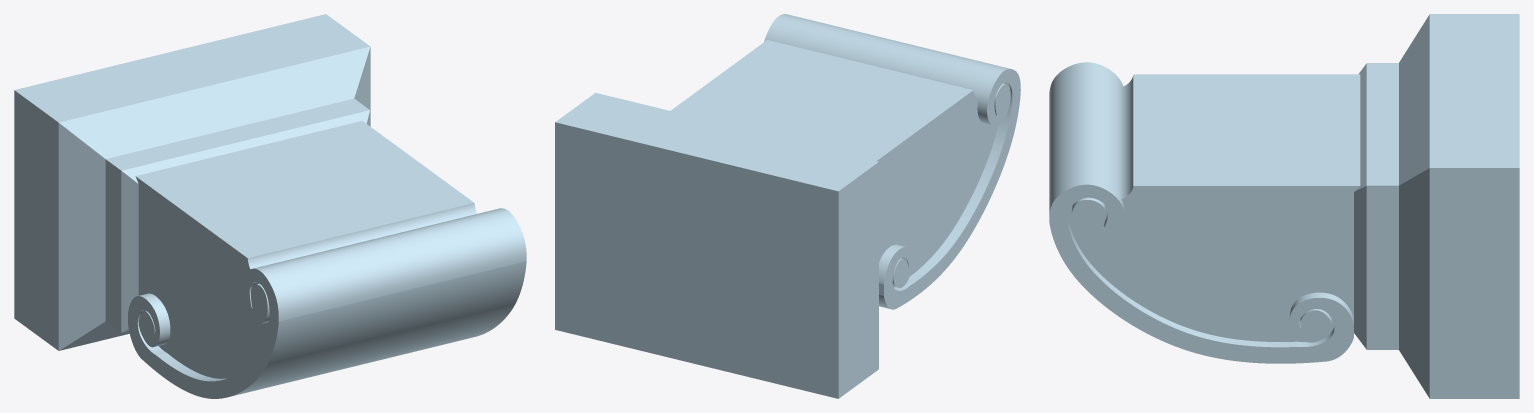
The picture shows the model from 3 angles, left to right: view 1: azimuth 30°, elevation 25°; view 2: azimuth 150°, elevation 25°; view 3: azimuth 270°, elevation 25°; orthographic projection. The views are drawn at different scales.
Parts seen in each view (by area): view 1: PA-88-F_LOD0; view 2: PA-88-F_LOD0; view 3: PA-88-F_LOD0.
Part boxes in pixels (<box>): PA-88-F_LOD0: <box>14,14,526,398</box>; PA-88-F_LOD0: <box>555,14,1020,398</box>; PA-88-F_LOD0: <box>1049,14,1519,398</box>.
Size of what is drawn, in the model's own units: 50.8 by 35.56 by 65.63.
